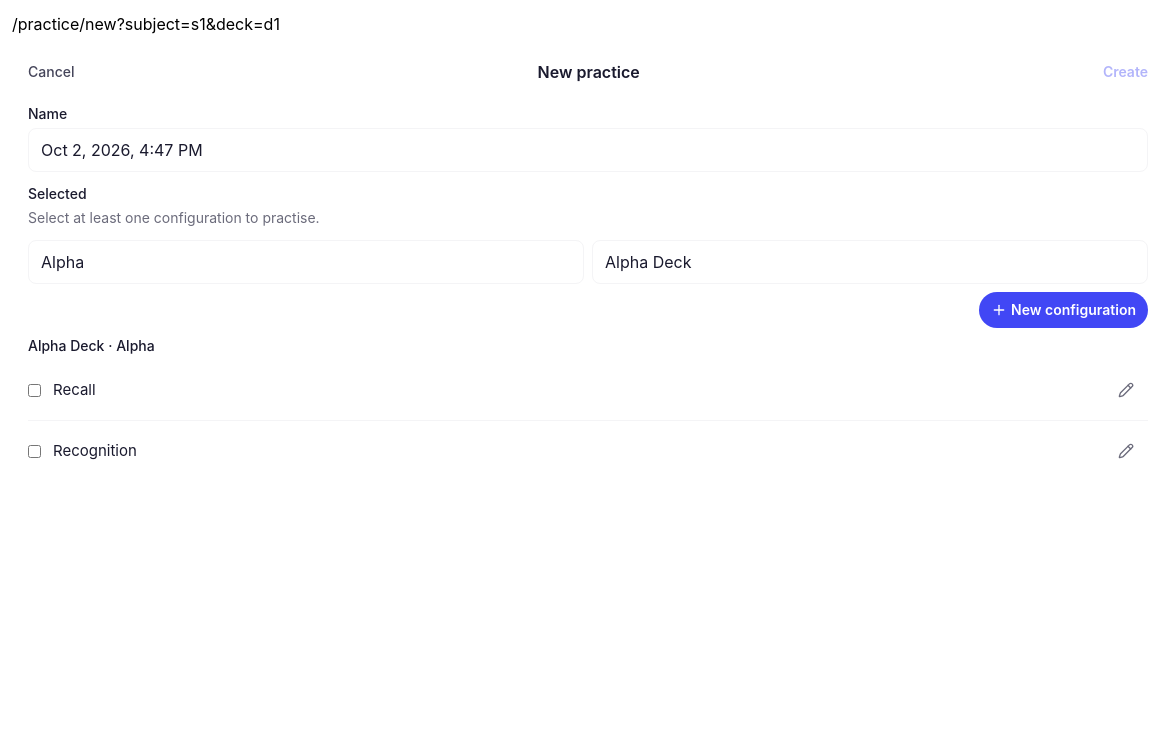
practice pre-filter chains › New practice → New configuration → New deck, then Cancel twice back up the chain (MD-5)
Check: the checkbox labelled "Recall" is shown, box x1=28 y1=384 x2=41 y2=396
Click the button "New configuration": (1064, 310) x1=979 y1=292 x2=1148 y2=328
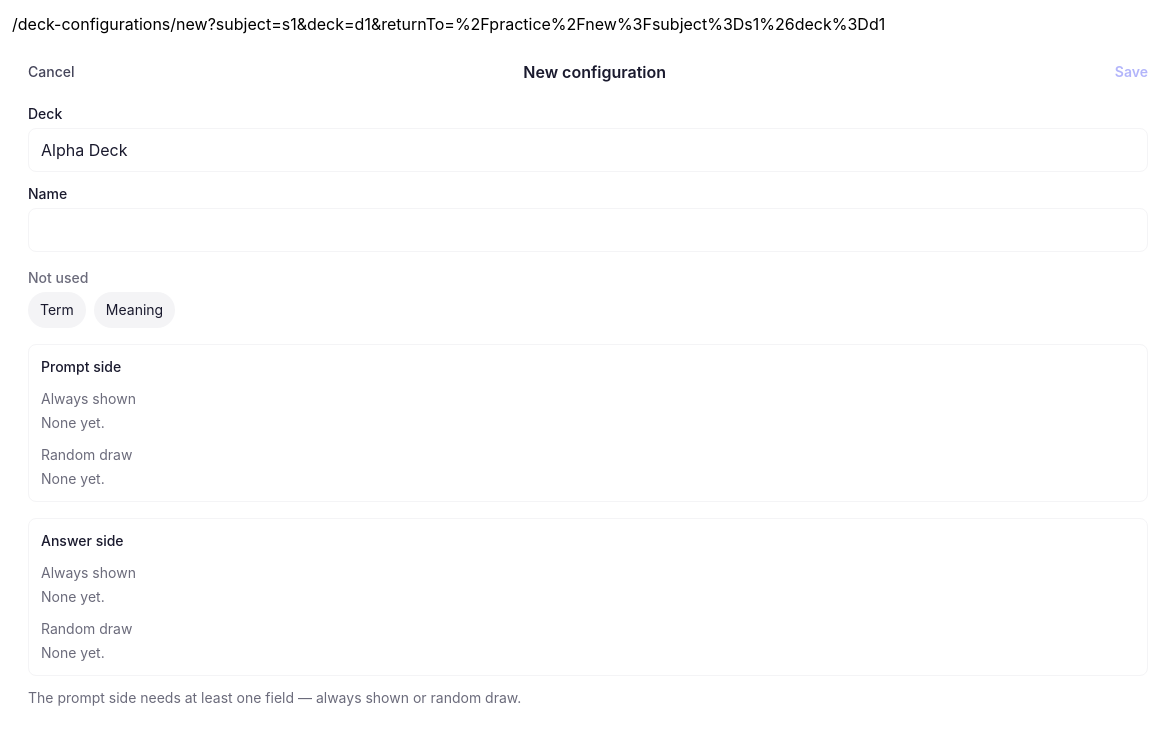
Check: the element "Not used" is shown, box x1=28 y1=269 x2=175 y2=328
Click the dropdown with placeholder "Deck": (588, 150) x1=28 y1=128 x2=1148 y2=172
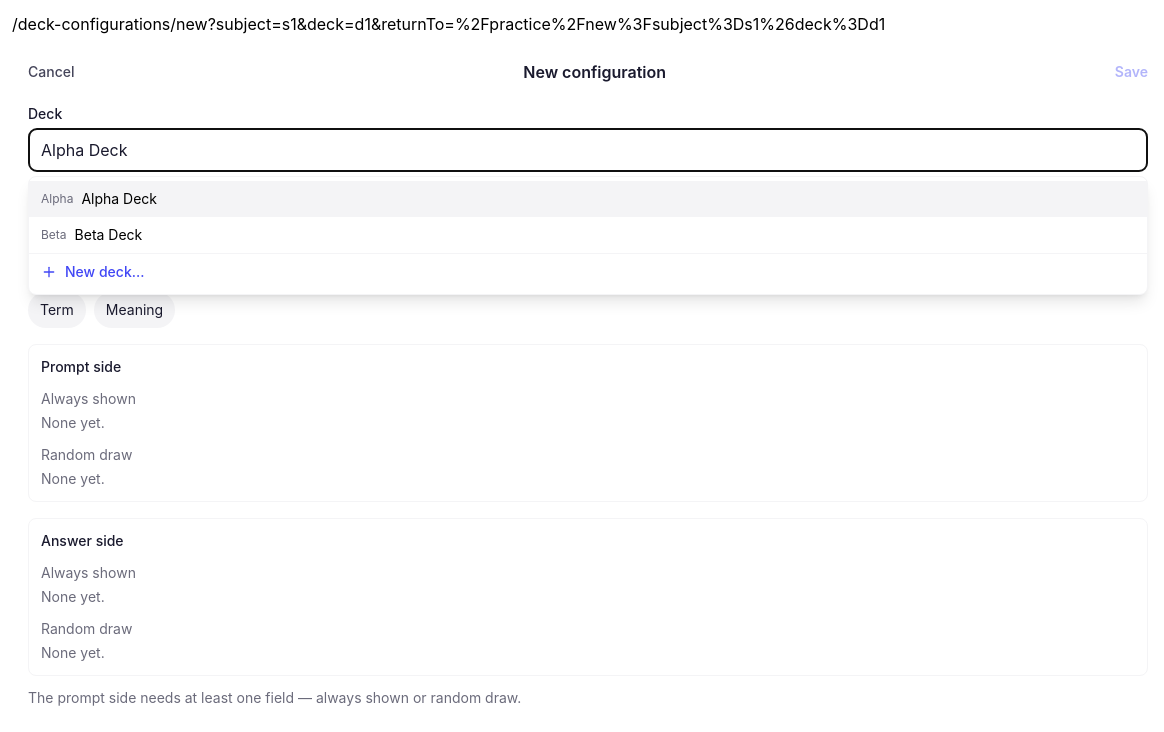
Click the option "New deck…": (105, 272) x1=29 y1=253 x2=1147 y2=290
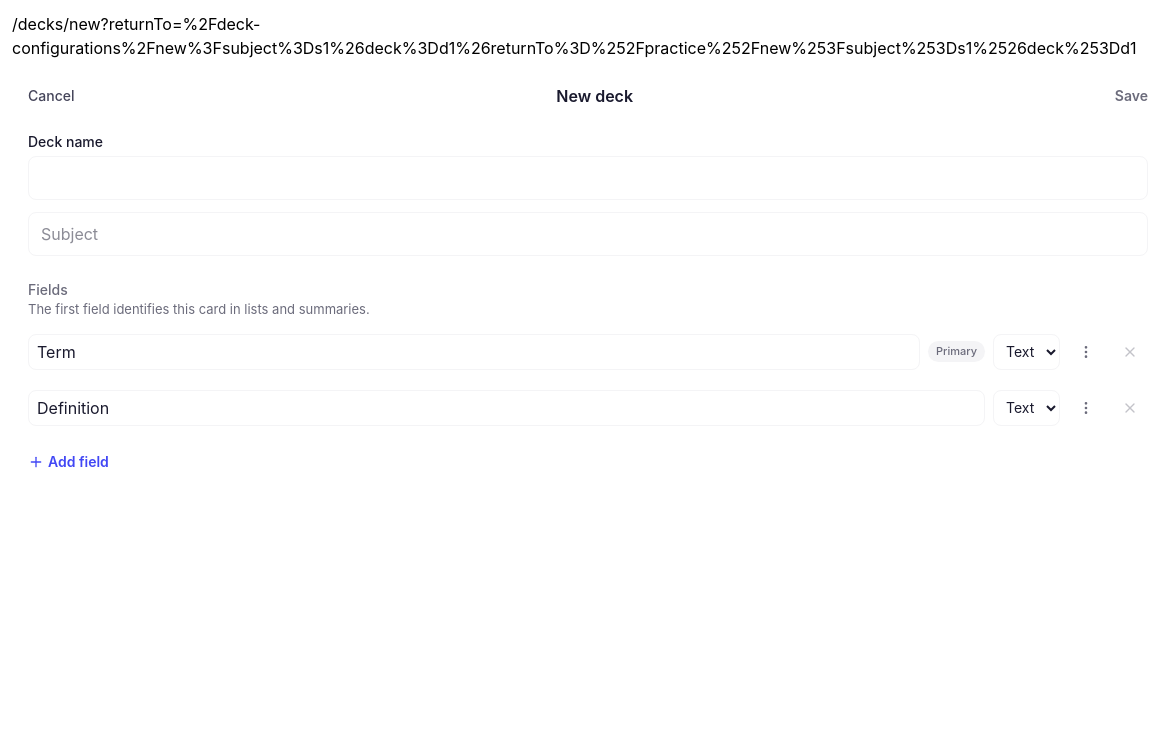
Check: the field showing "Term" next to "Primary" is shown, box x1=28 y1=334 x2=920 y2=370
Click the button "Cancel": (51, 96) x1=28 y1=86 x2=74 y2=106
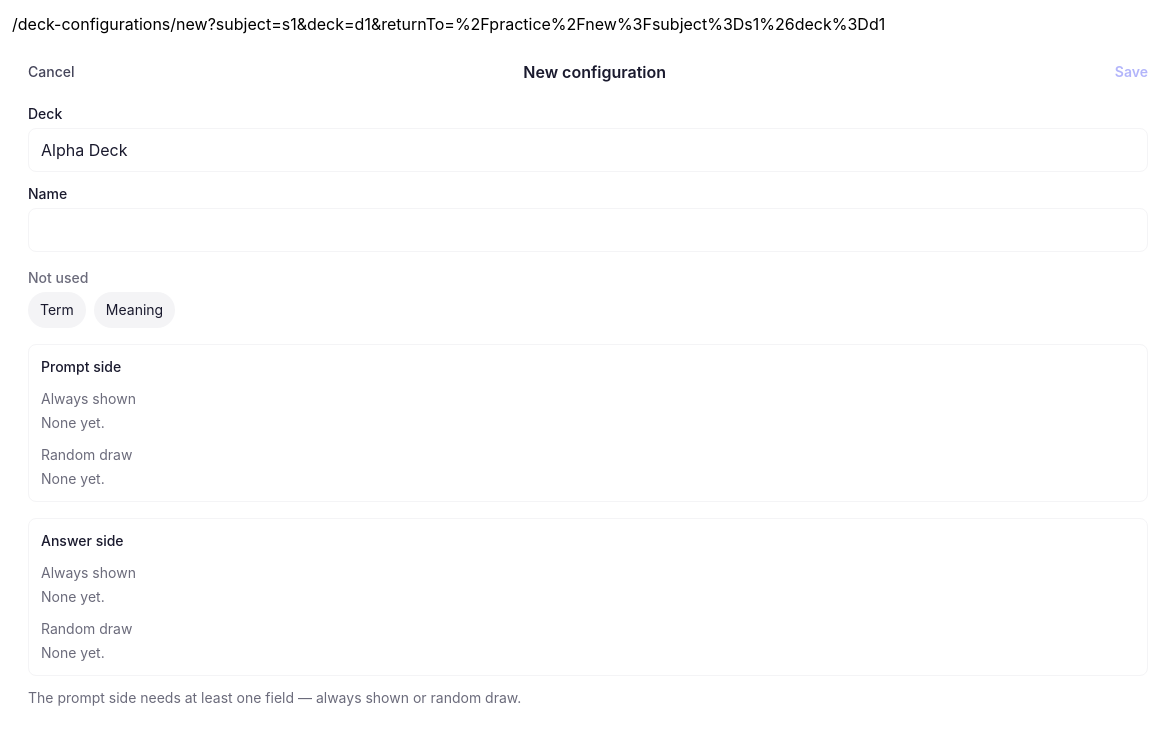
Check: the element "Not used" is shown, box x1=28 y1=269 x2=175 y2=328
Check: the dropdown with placeholder "Deck" holds "Alpha Deck", box x1=28 y1=128 x2=1148 y2=172
Cancel in the builder → back on New practice with the original filters.
Click the button "Cancel": (51, 72) x1=28 y1=62 x2=74 y2=82
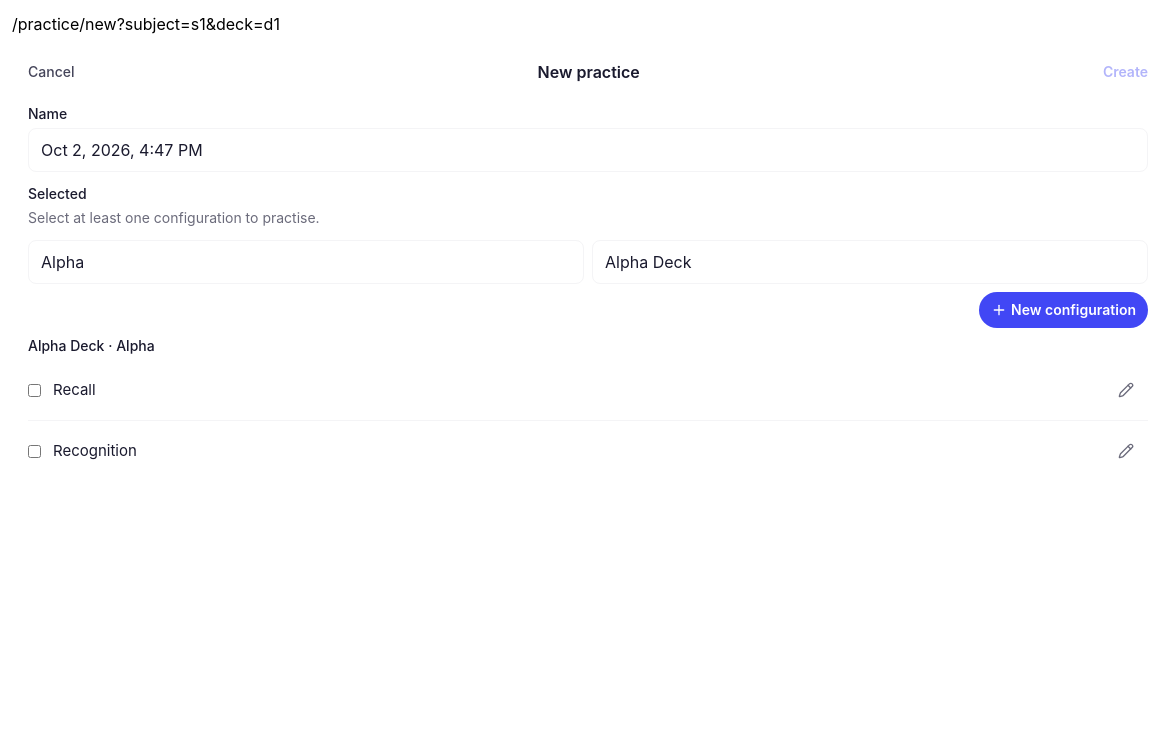
Check: the text with test id "location" reads "/practice/new?subject=s1&deck=d1", box x1=12 y1=14 x2=280 y2=34
Check: the heading "New practice" is shown, box x1=538 y1=60 x2=640 y2=84
Check: the checkbox labelled "Recall" is shown, box x1=28 y1=384 x2=41 y2=396
